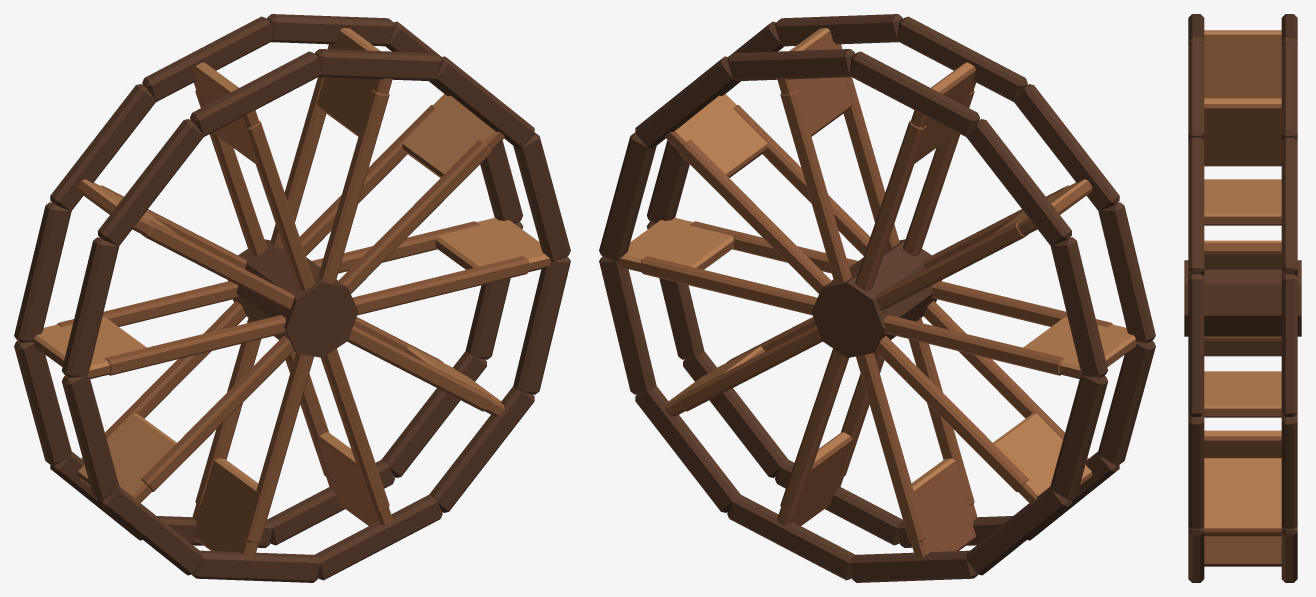
Rendered from Bld_Watermill_Wheel.fbx.
The picture shows the model from 3 angles, left to right: view 1: azimuth 30°, elevation 25°; view 2: azimuth 150°, elevation 25°; view 3: azimuth 270°, elevation 25°; orthographic projection. The views are drawn at different scales.
Parts seen in each view (by area): view 1: Bld_Watermill_Wheel.002; view 2: Bld_Watermill_Wheel.002; view 3: Bld_Watermill_Wheel.002.
Part boxes in pixels (left/top/right/bottom): Bld_Watermill_Wheel.002: left=14, top=14, right=570, bottom=582; Bld_Watermill_Wheel.002: left=599, top=14, right=1155, bottom=582; Bld_Watermill_Wheel.002: left=1184, top=14, right=1301, bottom=582.
Bounding box in the file's own units: 2.81 × 2.81 × 0.58.
